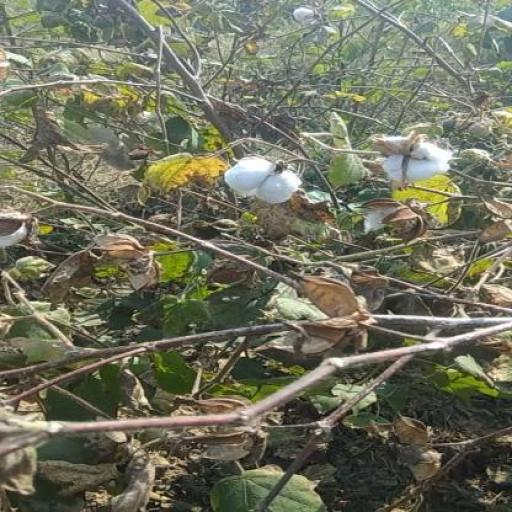cotton_ready: (332, 132, 466, 202), (197, 151, 321, 222)
